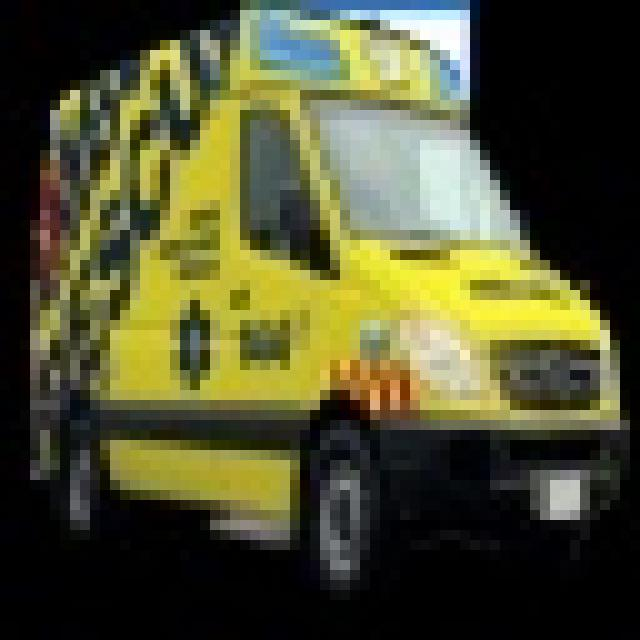Ambulance: (20, 0, 630, 600)
